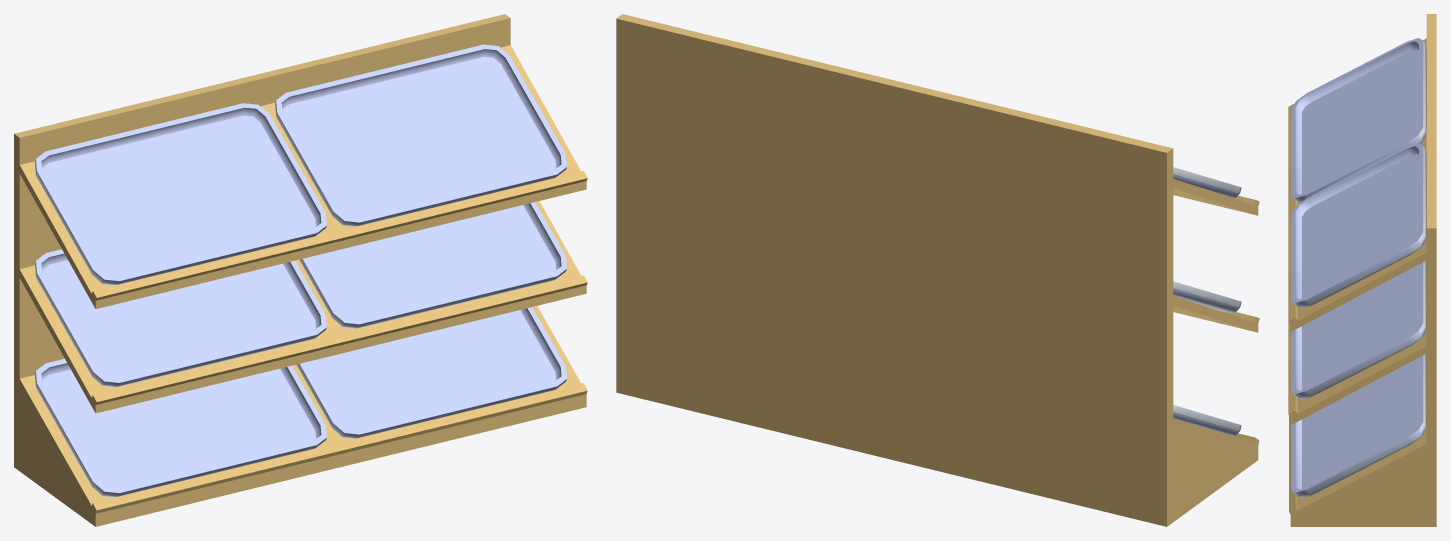
File: foodshelf1.fbx
The picture shows the model from 3 angles, left to right: view 1: azimuth 30°, elevation 25°; view 2: azimuth 150°, elevation 25°; view 3: azimuth 270°, elevation 25°; orthographic projection. The views are drawn at different scales.
Visible parts, largest first — view 1: foodshelf, tray1.005, tray1.004, tray1, tray1.002, tray1.001, tray1.003; view 2: foodshelf, tray1.002, tray1, tray1.004; view 3: foodshelf, tray1.005, tray1.004, tray1.001, tray1.003.
Part boxes in pixels (x1=…): foodshelf: x1=14, y1=14, x2=587, y2=526; tray1.005: x1=275, y1=44, x2=566, y2=226; tray1.004: x1=34, y1=103, x2=326, y2=285; tray1: x1=34, y1=358, x2=326, y2=497; tray1.002: x1=34, y1=249, x2=326, y2=387; tray1.001: x1=296, y1=307, x2=566, y2=438; tray1.003: x1=299, y1=202, x2=566, y2=328; foodshelf: x1=616, y1=14, x2=1259, y2=526; tray1.002: x1=1173, y1=281, x2=1241, y2=312; tray1: x1=1173, y1=405, x2=1241, y2=436; tray1.004: x1=1173, y1=167, x2=1241, y2=198; foodshelf: x1=1288, y1=14, x2=1436, y2=526; tray1.005: x1=1291, y1=142, x2=1426, y2=308; tray1.004: x1=1291, y1=38, x2=1426, y2=202; tray1.001: x1=1291, y1=354, x2=1426, y2=498; tray1.003: x1=1291, y1=261, x2=1426, y2=399.
Bounding box in the file's own units: 5.42 × 3.52 × 1.58.
